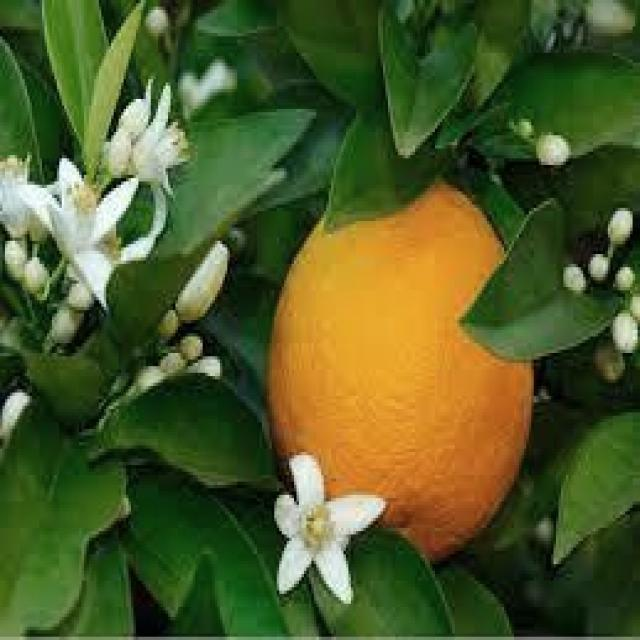Bunga: (20, 158, 141, 314), (276, 452, 386, 604), (134, 82, 190, 241), (173, 238, 230, 324), (178, 53, 238, 119), (0, 155, 40, 238), (49, 290, 86, 346), (593, 333, 628, 383), (118, 99, 148, 145), (610, 310, 640, 356), (25, 254, 52, 297), (109, 128, 131, 178), (5, 238, 30, 280), (536, 135, 571, 165), (608, 208, 632, 251), (146, 6, 170, 40), (188, 356, 222, 379), (564, 264, 586, 297), (180, 333, 205, 360), (158, 310, 180, 340), (588, 254, 610, 284), (160, 353, 186, 376), (615, 268, 635, 290), (630, 294, 640, 316)
Jeruk Sudah Matang: (269, 175, 539, 571)
